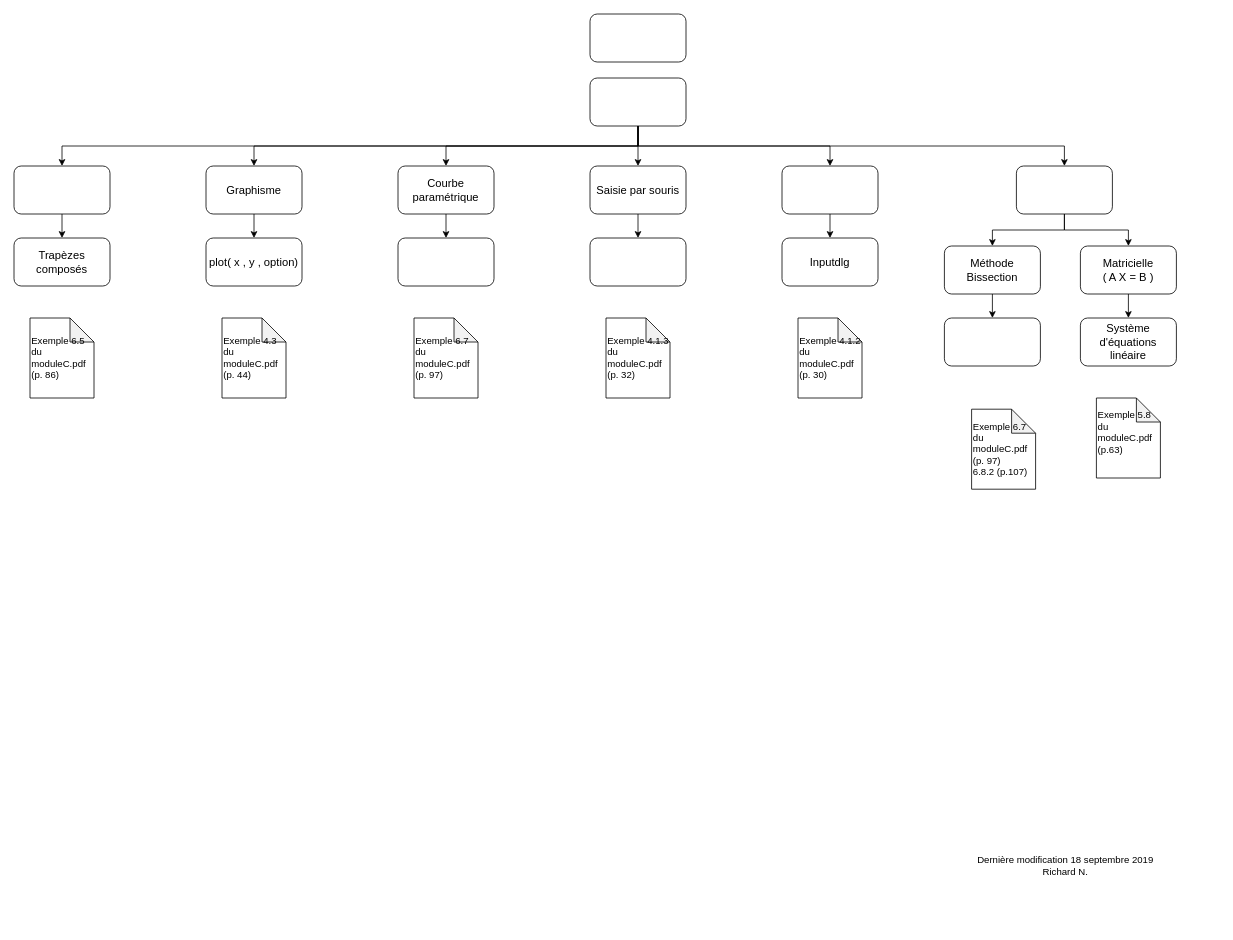
This 1233x940 diagram has some shape labels left out. Here are the shapes that lost their labels. From the top down, the centre of each, then its label:
(637,37): Module C1
(637,101): Outil et techniques de calcul
(61,189): Intégration de fonction
(829,189): Boite de dialogue
(1064,189): Trouver zéros ou racine
(445,261): x et y fonction de paramètre
(637,261): ginput
(992,341): Changement de signe entre f(a) et f(b)
